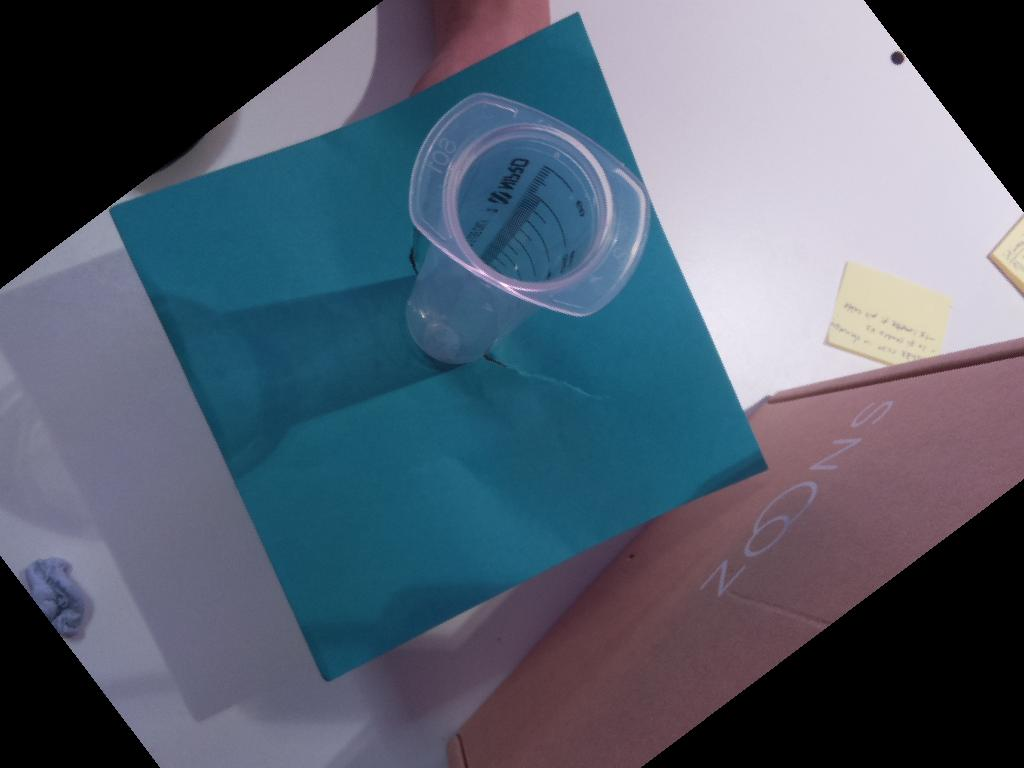clean: (407, 91, 651, 319)
